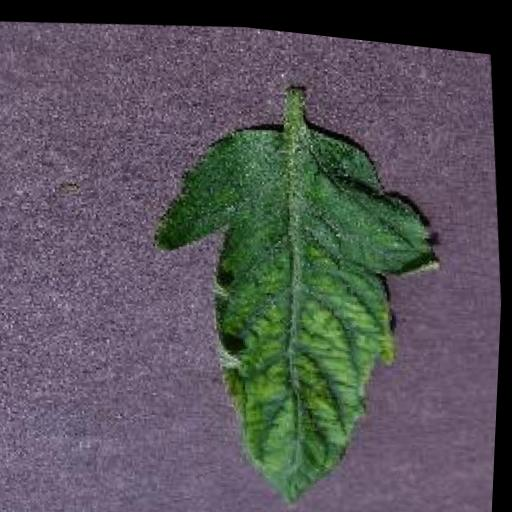Mosaic Virus: (139, 94, 470, 512)
